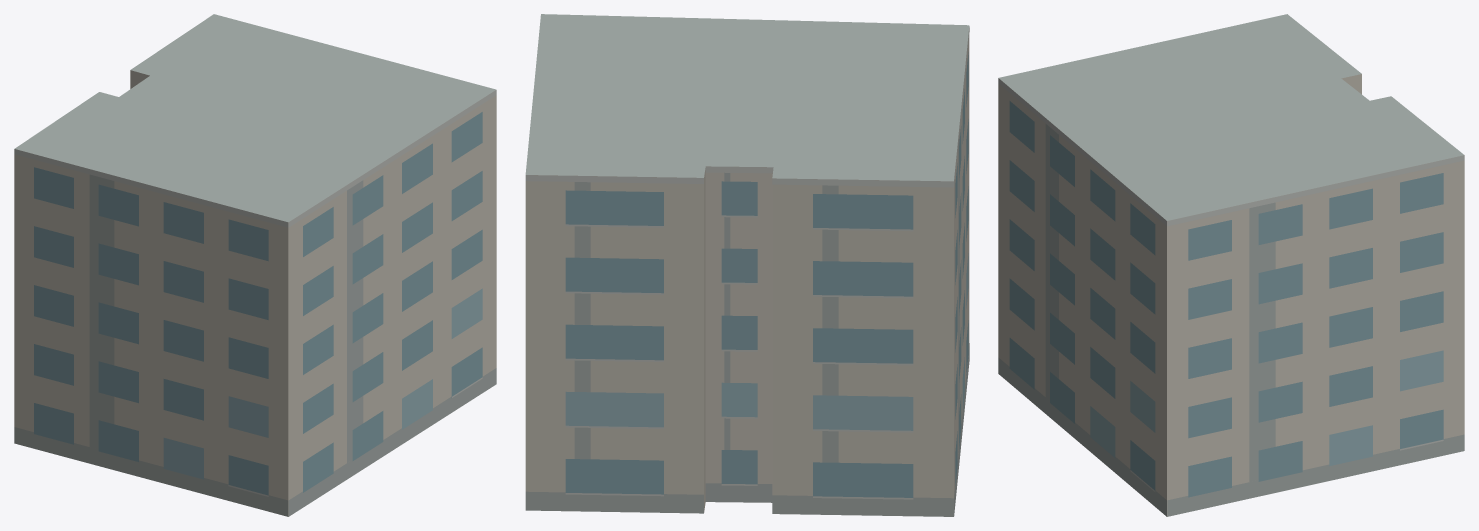
The model's file is survey-upis-32930125.glb.
3 views of the same model, side by side, from view 1: azimuth 30°, elevation 25°; view 2: azimuth 150°, elevation 25°; view 3: azimuth 270°, elevation 25° (orthographic). The views are drawn at different scales.
Visible parts, largest first — view 1: survey-upis-32930125.tmp; view 2: survey-upis-32930125.tmp; view 3: survey-upis-32930125.tmp.
Boxes of the visible parts, x1,y1,x2,y2 form: survey-upis-32930125.tmp: (14, 14, 496, 516); survey-upis-32930125.tmp: (525, 14, 969, 516); survey-upis-32930125.tmp: (998, 14, 1464, 516).
Bounding box in the file's own units: 19.82 × 13.2 × 18.86.
